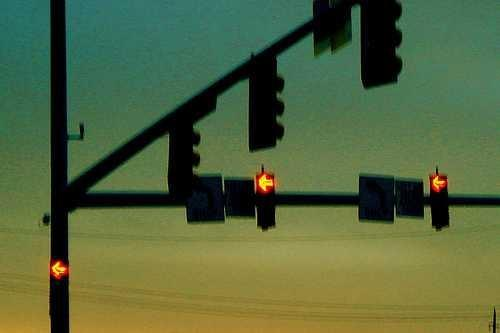red: (426, 170, 452, 231), (48, 260, 71, 314), (257, 172, 276, 229), (429, 172, 448, 194), (49, 260, 69, 279), (257, 173, 274, 193)
